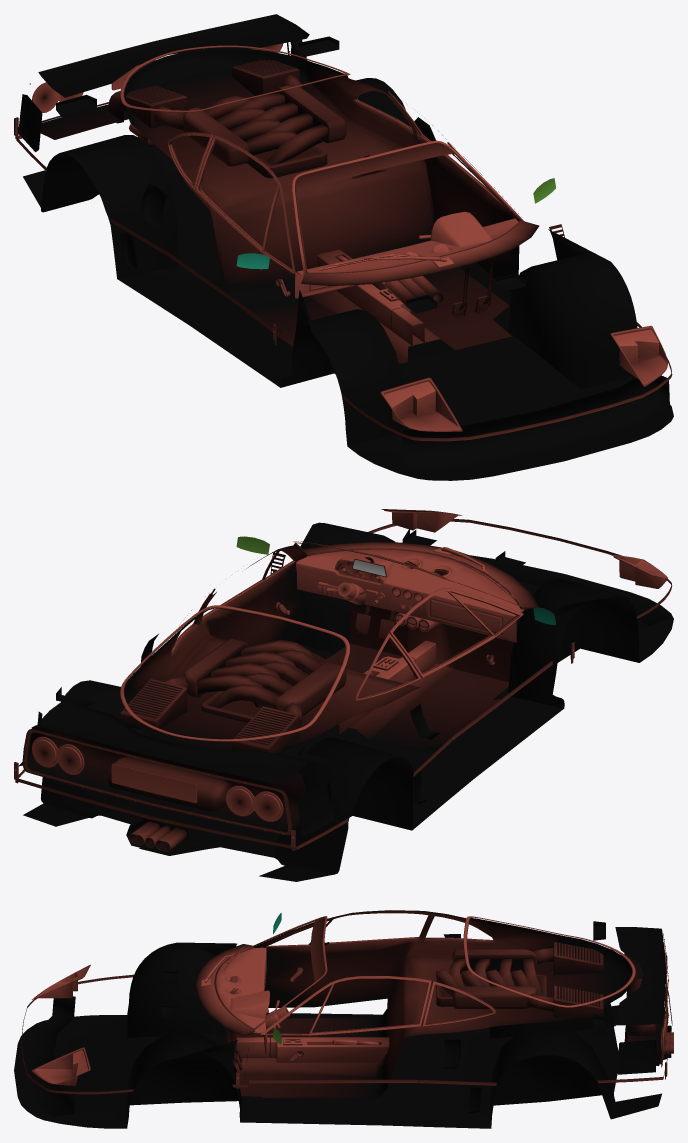
Rendered from F40_Chassis_Trim.fbx.
3 views of the same model, one above another, from view 1: azimuth 30°, elevation 25°; view 2: azimuth 150°, elevation 25°; view 3: azimuth 270°, elevation 25° (orthographic). The views are drawn at different scales.
Parts seen in each view (by area): view 1: F40_Chassis_Trim; view 2: F40_Chassis_Trim; view 3: F40_Chassis_Trim.
Boxes of the visible parts, x1,y1,x2,y2 form: F40_Chassis_Trim: (14, 14, 673, 480); F40_Chassis_Trim: (14, 509, 673, 881); F40_Chassis_Trim: (14, 910, 673, 1128).
Bounding box in the file's own units: 192 × 97.21 × 431.
